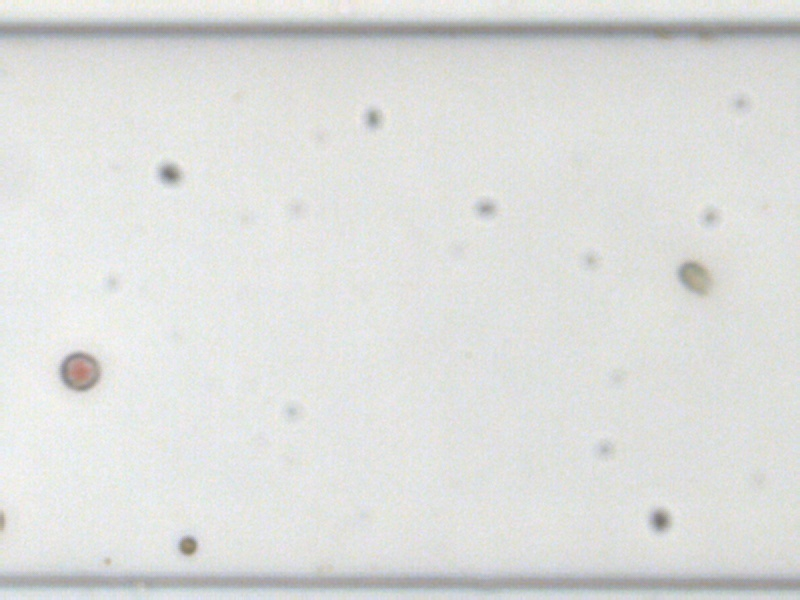Chlorella: (100, 554, 112, 566)
Dunaliella salina: (675, 258, 714, 296)
Effrenium: (178, 535, 198, 555)
Porphyridium: (58, 349, 102, 394)
